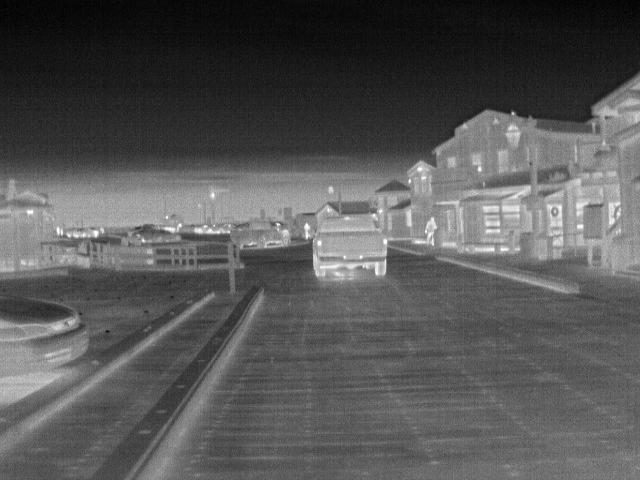car: (310, 212, 390, 278), (231, 218, 292, 250), (132, 228, 183, 244)
person: (422, 214, 439, 244), (302, 221, 312, 241)
